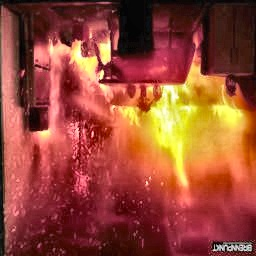fire: (51, 45, 250, 219)
